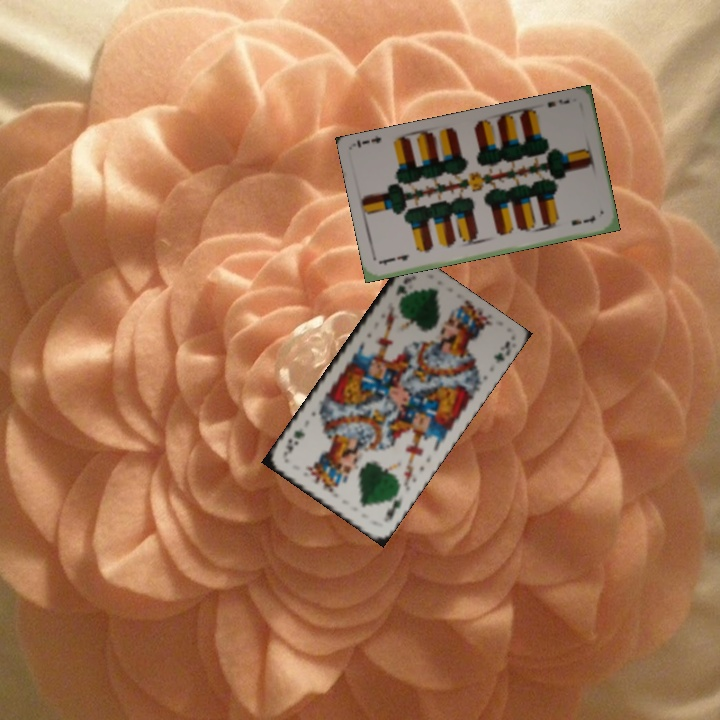E7: (376, 250, 412, 268), (543, 95, 572, 110)
GK: (381, 492, 405, 525), (392, 274, 414, 298)
